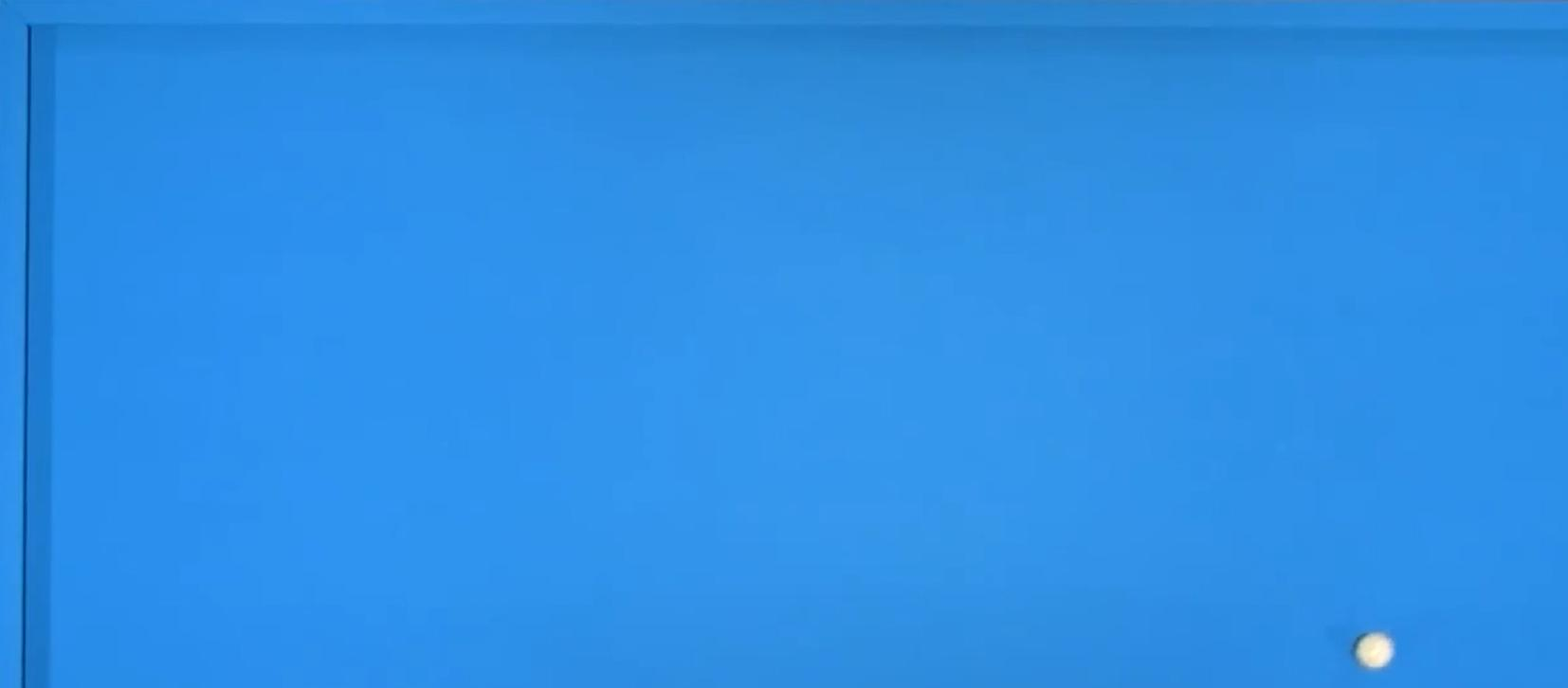white ball: (1351, 625, 1398, 676)
